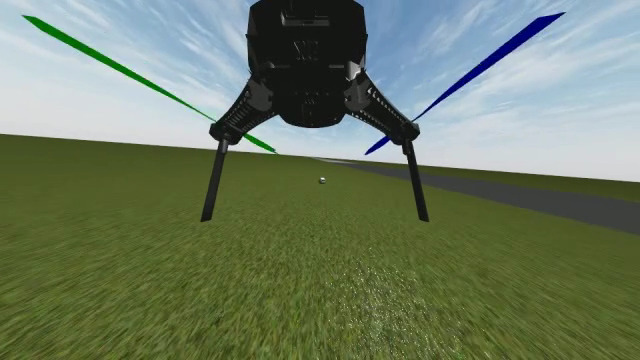Car: (318, 177, 326, 184)
